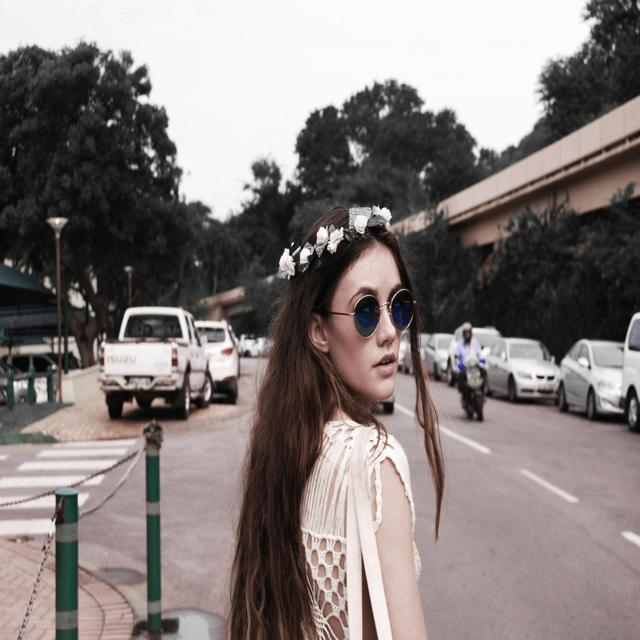2_gafas: (319, 287, 416, 338)
